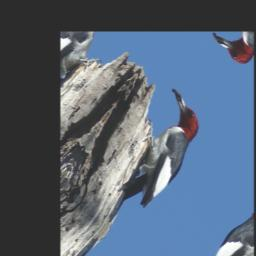Woodpecker: (91, 86, 211, 245)
